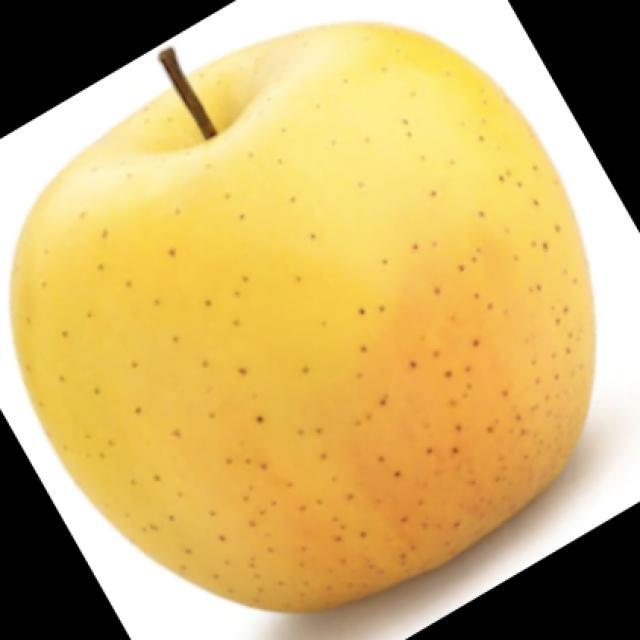Apple: (9, 20, 597, 614)
